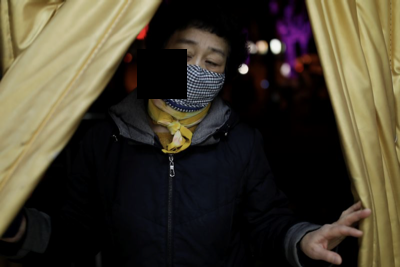with_mask: (155, 37, 228, 111)
